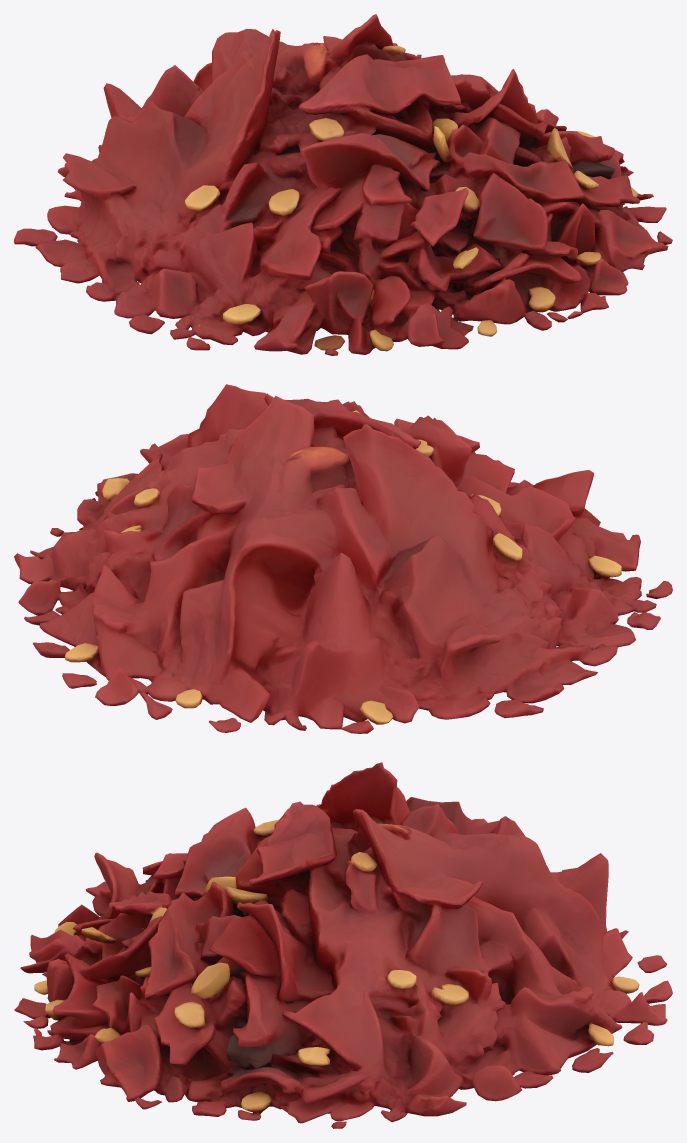
File: lod_basic_shaded.fbx
3 renders of one model, top to bottom at view 1: azimuth 30°, elevation 25°; view 2: azimuth 150°, elevation 25°; view 3: azimuth 270°, elevation 25°, orthographic. The views are drawn at different scales.
Visible parts, largest first — view 1: model_LOD0; view 2: model_LOD0; view 3: model_LOD0.
Boxes of the visible parts, x1,y1,x2,y2 form: model_LOD0: (14, 14, 672, 355); model_LOD0: (14, 384, 672, 733); model_LOD0: (14, 762, 672, 1128).
Size of what is drawn, in the model's own units: 186 by 65.32 by 189.
